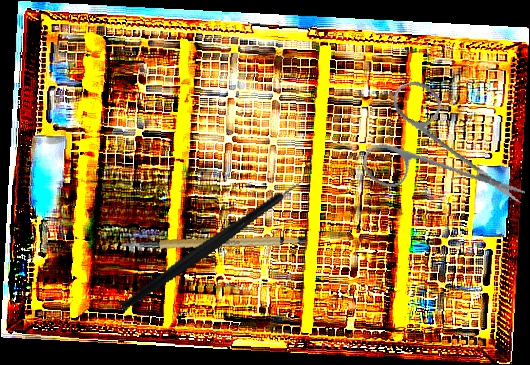Chopper: (97, 160, 334, 313)
Iris Scissors: (344, 59, 528, 244)
Scalpel Handle: (121, 212, 307, 270)
